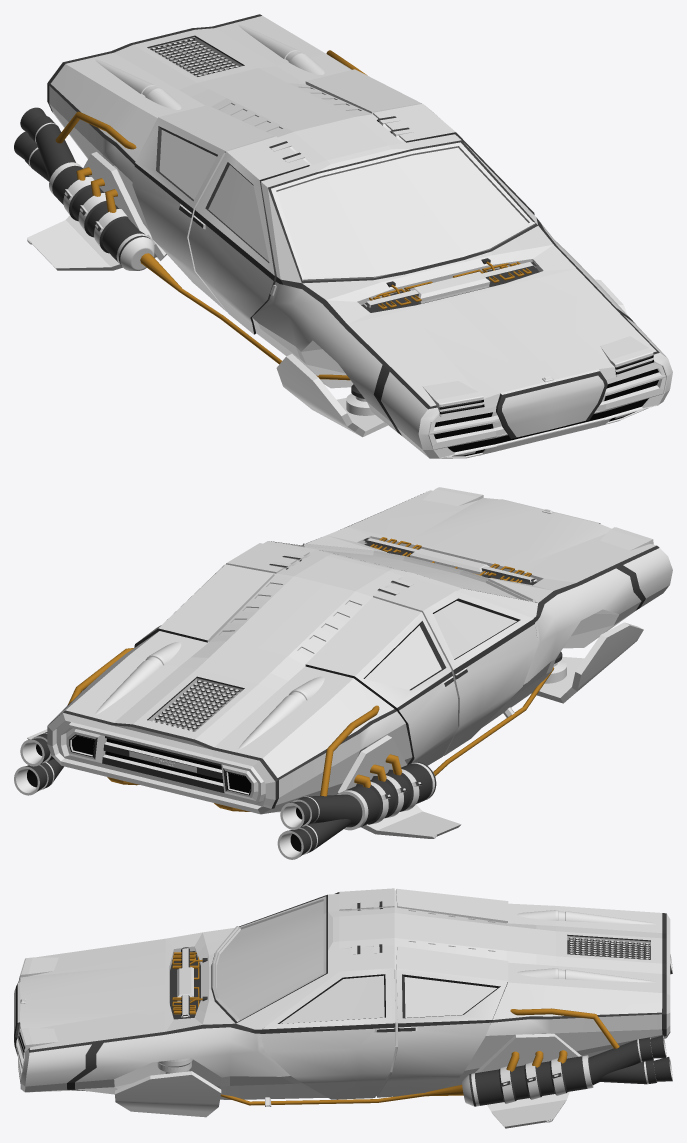
Rendered from uploads_files_2282529_sci+fi+flying+car+01.fbx.
The picture shows the model from 3 angles, top to bottom: view 1: azimuth 30°, elevation 25°; view 2: azimuth 150°, elevation 25°; view 3: azimuth 270°, elevation 25°; orthographic projection. The views are drawn at different scales.
Visible parts, largest first — view 1: car body, front doors, back doors, upper exhaust pipes, back hover thingies, front wingie things, back tubes, batteries on hood.002, side pipes, gold pipes above exhaust, pipes in front of windshield, lower exhaust pipes; view 2: car body, back doors, front doors, upper exhaust pipes, back hover thingies, front wingie things, lower exhaust pipes, back tubes, batteries on hood.002, gold pipes above exhaust, side pipes, pipes in front of windshield (+1 smaller); view 3: car body, back doors, front doors, upper exhaust pipes, back hover thingies, front wingie things, back tubes, batteries on hood.002, lower exhaust pipes, side pipes, gold pipes above exhaust, pipes in front of windshield (+2 smaller).
Part boxes in pixels (bbox=[...]): car body: bbox=[47, 14, 672, 458]; front doors: bbox=[188, 103, 534, 334]; back doors: bbox=[132, 69, 421, 311]; upper exhaust pipes: bbox=[20, 107, 154, 270]; back hover thingies: bbox=[27, 152, 166, 270]; front wingie things: bbox=[276, 279, 626, 437]; back tubes: bbox=[95, 24, 324, 109]; batteries on hood.002: bbox=[151, 39, 239, 76]; side pipes: bbox=[140, 253, 350, 380]; gold pipes above exhaust: bbox=[55, 50, 367, 149]; pipes in front of windshield: bbox=[369, 261, 531, 309]; lower exhaust pipes: bbox=[14, 131, 49, 181]; car body: bbox=[47, 487, 672, 814]; back doors: bbox=[134, 564, 458, 765]; front doors: bbox=[226, 543, 537, 755]; upper exhaust pipes: bbox=[20, 732, 436, 830]; back hover thingies: bbox=[27, 729, 461, 838]; front wingie things: bbox=[531, 622, 643, 703]; lower exhaust pipes: bbox=[14, 759, 351, 859]; back tubes: bbox=[95, 641, 324, 749]; batteries on hood.002: bbox=[152, 680, 239, 731]; gold pipes above exhaust: bbox=[67, 648, 379, 796]; side pipes: bbox=[433, 667, 554, 776]; pipes in front of windshield: bbox=[370, 537, 531, 582]; car body: bbox=[14, 890, 670, 1106]; back doors: bbox=[377, 888, 508, 1097]; front doors: bbox=[261, 888, 395, 1099]; upper exhaust pipes: bbox=[462, 1035, 666, 1106]; back hover thingies: bbox=[475, 1033, 581, 1128]; front wingie things: bbox=[115, 1071, 221, 1117]; back tubes: bbox=[517, 910, 656, 982]; batteries on hood.002: bbox=[568, 937, 649, 959]; lower exhaust pipes: bbox=[600, 954, 672, 1084]; side pipes: bbox=[220, 1084, 463, 1105]; gold pipes above exhaust: bbox=[510, 1008, 619, 1048]; pipes in front of windshield: bbox=[172, 952, 202, 1014].
Size of the model in its own units: 389 by 157 by 656.
